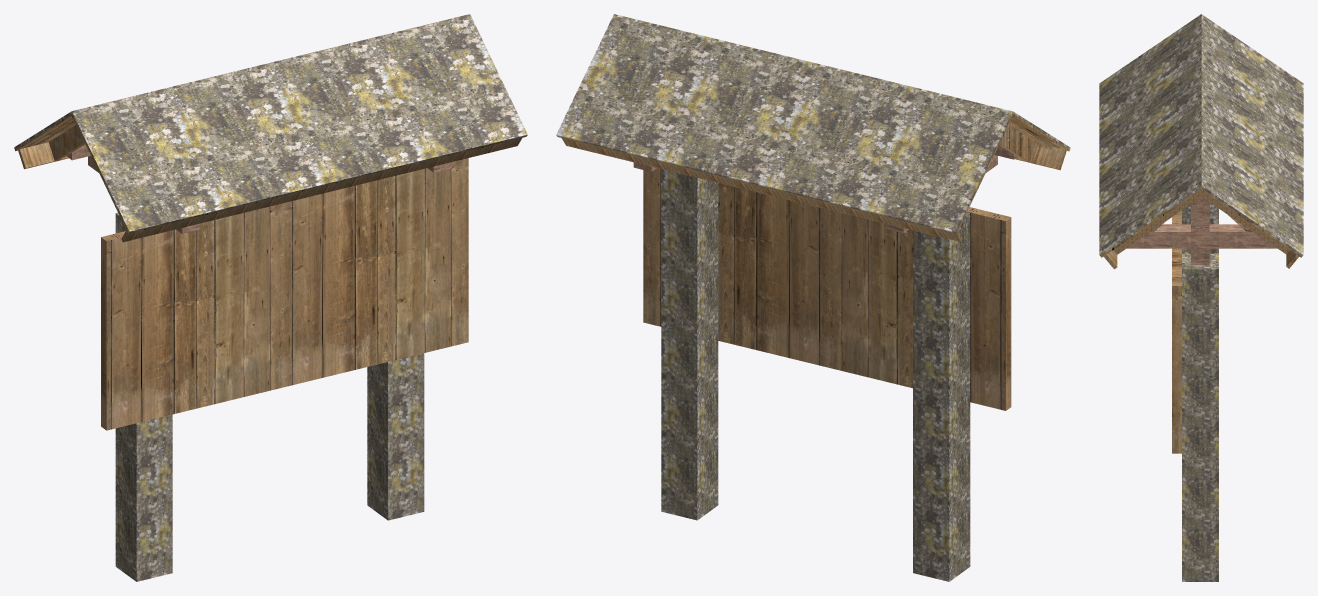
Rendered from wooden_sign_with_roof.glb.
3 views of the same model, side by side, from view 1: azimuth 30°, elevation 25°; view 2: azimuth 150°, elevation 25°; view 3: azimuth 270°, elevation 25° (orthographic). The views are drawn at different scales.
Visible parts, largest first — view 1: G-Sign Name.001_0, G-Roof.001_2, G-Pole.001_1, G-Roof Floor_4; view 2: G-Roof.001_2, G-Sign Name.001_0, G-Pole.001_1, G-Roof Floor_4; view 3: G-Roof.001_2, G-Pole.001_1, G-Roof Support.001_3, G-Sign Name.001_0, G-Roof Floor_4.
Part boxes in pixels (left/top/right/bottom): G-Sign Name.001_0: left=101, top=158, right=468, bottom=430; G-Roof.001_2: left=14, top=14, right=527, bottom=232; G-Pole.001_1: left=115, top=212, right=424, bottom=581; G-Roof Floor_4: left=15, top=113, right=526, bottom=242; G-Roof.001_2: left=556, top=14, right=1070, bottom=233; G-Sign Name.001_0: left=643, top=168, right=1011, bottom=410; G-Pole.001_1: left=661, top=169, right=970, bottom=581; G-Roof Floor_4: left=557, top=114, right=1069, bottom=242; G-Roof.001_2: left=1099, top=14, right=1303, bottom=256; G-Pole.001_1: left=1182, top=203, right=1218, bottom=581; G-Roof Support.001_3: left=1127, top=197, right=1276, bottom=265; G-Sign Name.001_0: left=1172, top=210, right=1181, bottom=453; G-Roof Floor_4: left=1100, top=188, right=1302, bottom=269.
Bounding box in the file's own units: 2.2 × 2.51 × 1.1.
14 materials, 14 textured.
